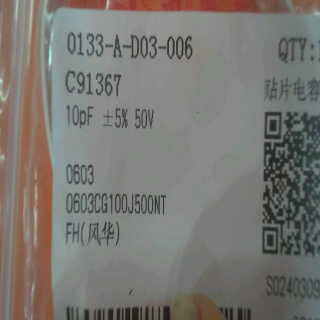10pF: (56, 104, 96, 132)
